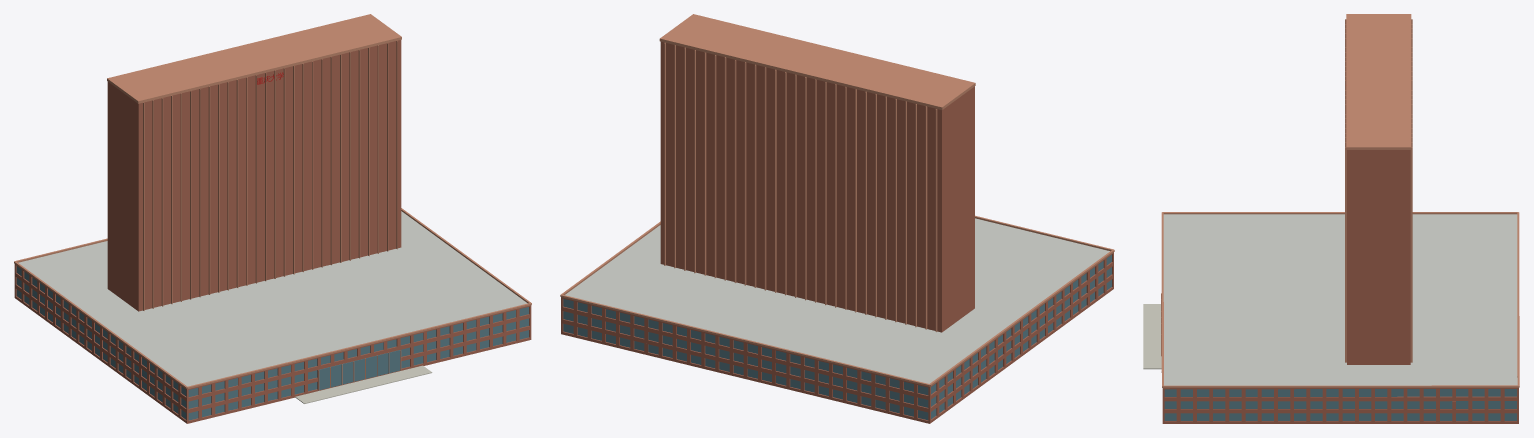
Rendered from library.far.glb.
3 renders of one model, left to right at view 1: azimuth 30°, elevation 25°; view 2: azimuth 150°, elevation 25°; view 3: azimuth 270°, elevation 25°, orthographic. The views are drawn at different scales.
Parts seen in each view (by area): view 1: wall, roof, trim, glass, paving; view 2: wall, roof, trim, glass; view 3: roof, wall, trim, glass, paving.
Part boxes in pixels (box(x1,y1,x2,y2)): wall: box(14, 40, 531, 423); roof: box(18, 211, 527, 386); trim: box(14, 14, 531, 390); glass: box(16, 266, 528, 420); paving: box(295, 365, 432, 403); wall: box(561, 41, 1113, 423); roof: box(565, 218, 1109, 383); trim: box(560, 14, 1114, 386); glass: box(563, 254, 1111, 420); roof: box(1163, 214, 1517, 385); wall: box(1162, 150, 1518, 423); trim: box(1161, 14, 1519, 388); glass: box(1164, 389, 1516, 420); paving: box(1143, 304, 1161, 369).
Bounding box in the file's own units: 97.4 × 66.7 × 88.71.
